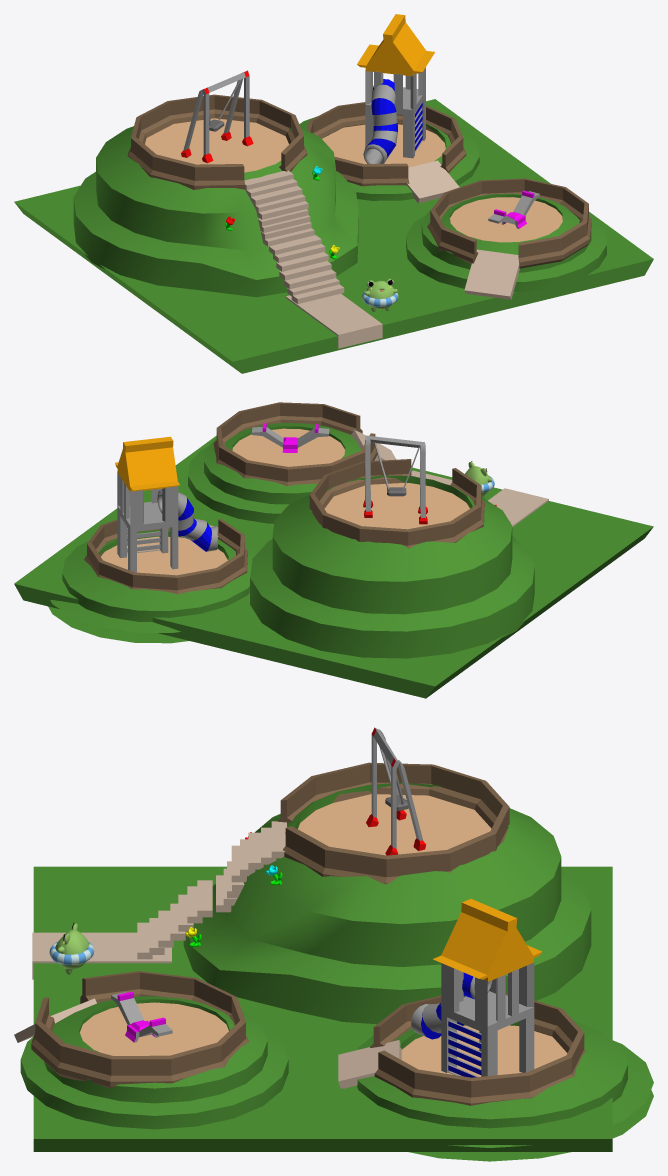
File: playground.glb
3 renders of one model, top to bottom at view 1: azimuth 30°, elevation 25°; view 2: azimuth 150°, elevation 25°; view 3: azimuth 270°, elevation 25°, orthographic. The views are drawn at different scales.
Visible parts, largest first — view 1: numero3, Frog; view 2: numero3; view 3: numero3, Frog.
Part boxes in pixels (x1=…): numero3: x1=14, y1=14, x2=653, y2=373; Frog: x1=364, y1=278, x2=397, y2=312; numero3: x1=14, y1=402, x2=653, y2=698; numero3: x1=14, y1=727, x2=653, y2=1161; Frog: x1=55, y1=923, x2=88, y2=974.
Bounding box in the file's own units: 85.11 × 32.99 × 84.26.
